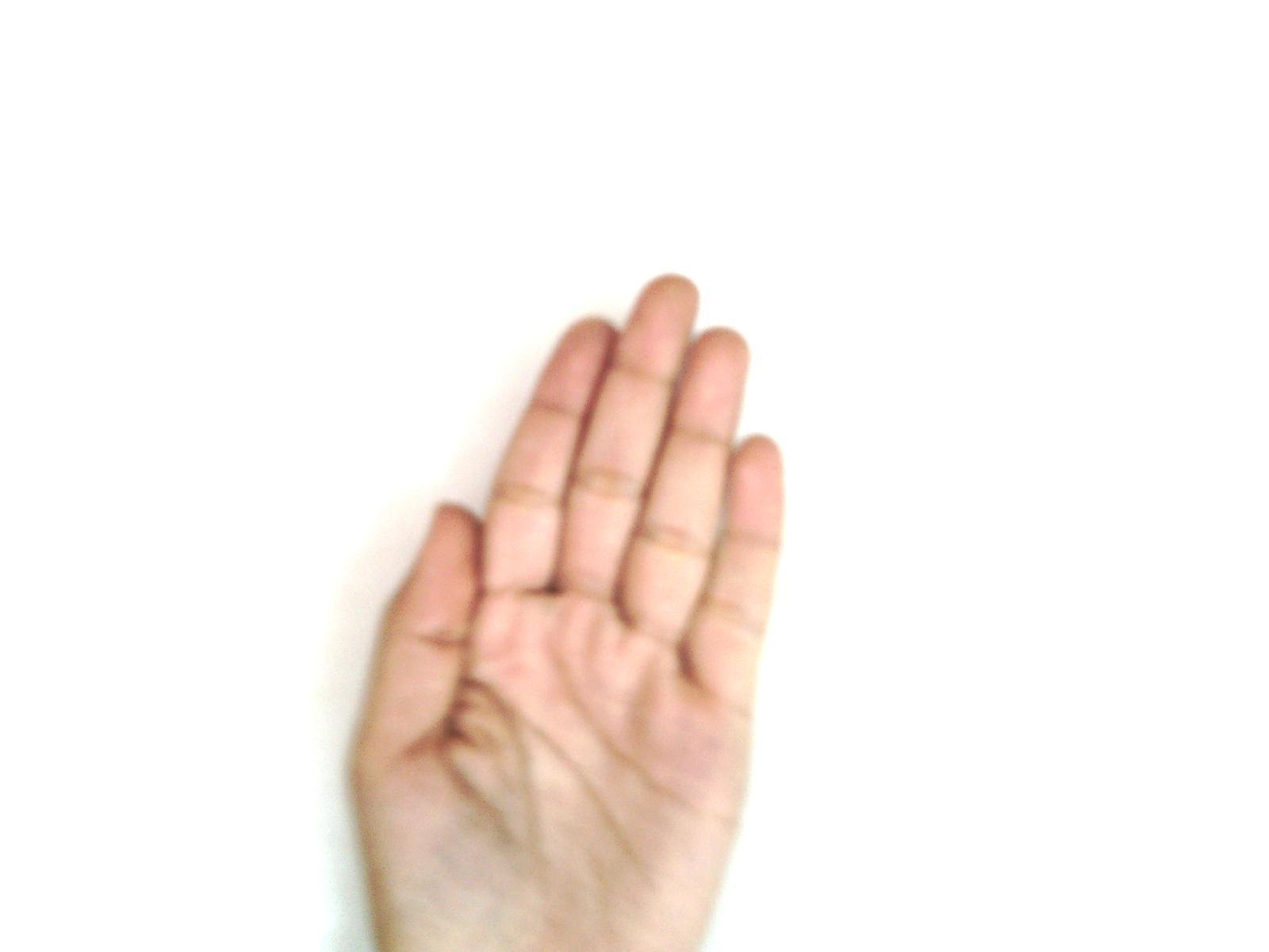open_palm: (347, 272, 789, 951)
